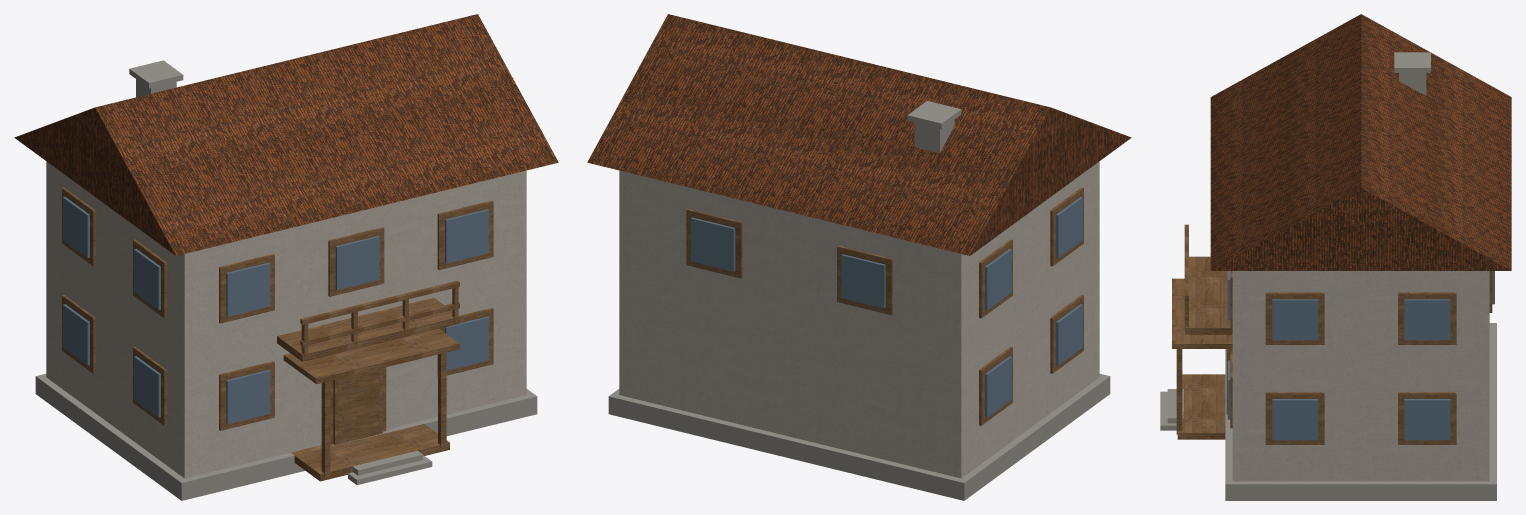
The model's file is HouseB.glb.
3 renders of one model, left to right at view 1: azimuth 30°, elevation 25°; view 2: azimuth 150°, elevation 25°; view 3: azimuth 270°, elevation 25°, orthographic. The views are drawn at different scales.
Visible parts, largest first — view 1: HouseB; view 2: HouseB; view 3: HouseB.
Part boxes in pixels (bbox=[...]): HouseB: bbox=[14, 14, 558, 500]; HouseB: bbox=[587, 14, 1131, 500]; HouseB: bbox=[1160, 14, 1511, 500].
Bounding box in the file's own units: 11.2 × 9.6 × 9.57.
Materials: 5 (3 with a texture image).
